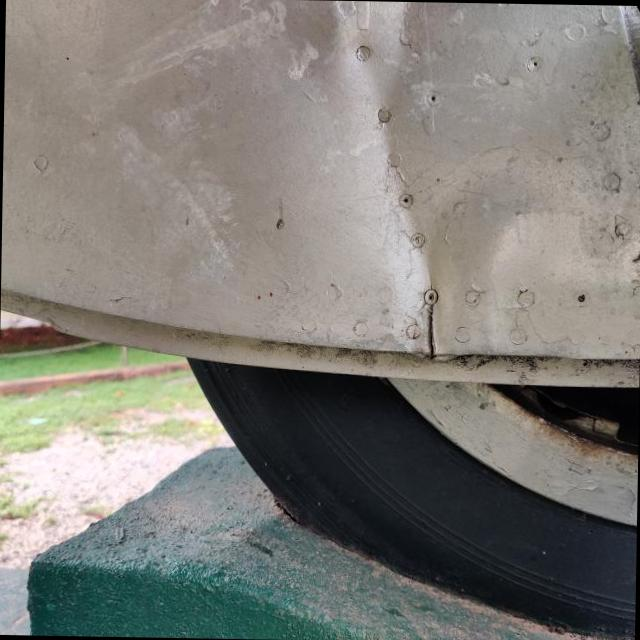Crack: (406, 289, 438, 355)
